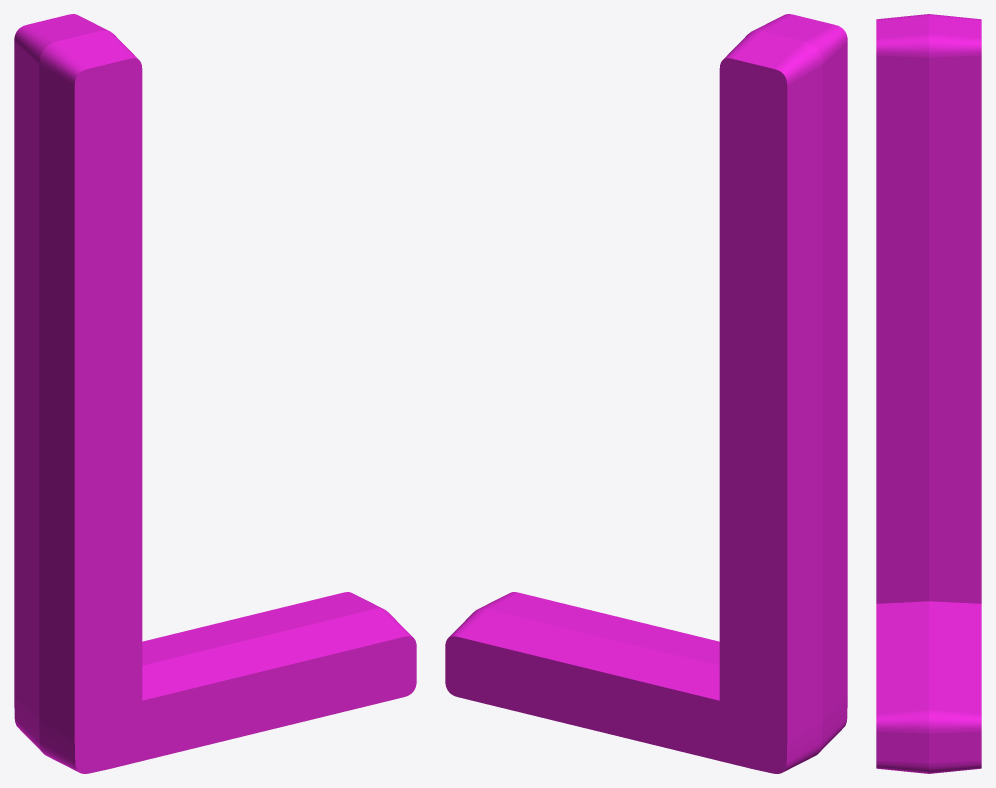
File: L_Color.FBX
3 renders of one model, left to right at view 1: azimuth 30°, elevation 25°; view 2: azimuth 150°, elevation 25°; view 3: azimuth 270°, elevation 25°, orthographic. The views are drawn at different scales.
Visible parts, largest first — view 1: L_Color; view 2: L_Color; view 3: L_Color.
Part boxes in pixels (x1,y1,x2,y2): L_Color: (14, 14, 416, 773); L_Color: (445, 14, 847, 773); L_Color: (876, 14, 981, 773).
Size of the model in its own units: 43.71 by 84.89 by 13.
